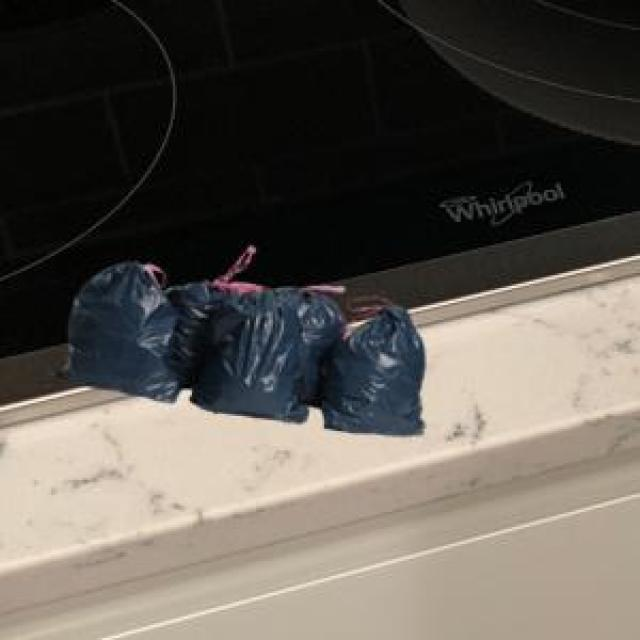miscellaneous trash: (45, 260, 420, 431)
